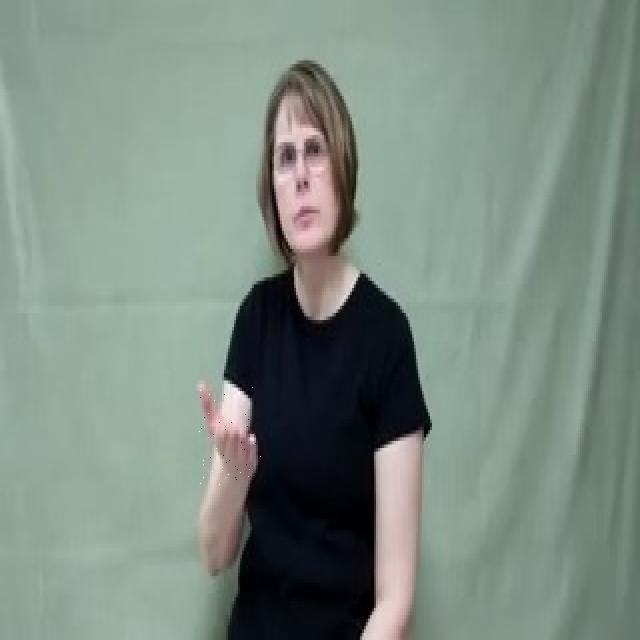thank-you: (198, 377, 262, 487)
